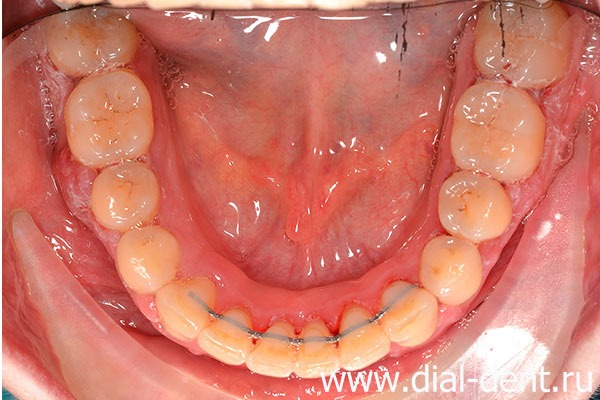LL1BC_healthy: (420, 235, 480, 304)
LL1M_healthy: (450, 82, 544, 177)
LL2BC_decay: (439, 171, 509, 242)
LL2M_decay: (476, 3, 571, 82)
LLCI_decay: (295, 326, 339, 374)
LLC_decay: (382, 283, 437, 345)
LLLI_decay: (340, 311, 388, 368)
LR1BC_healthy: (116, 225, 177, 292)
LR1M_decay: (66, 72, 153, 165)
LR2BC_decay: (92, 164, 160, 230)
LR2M_decay: (45, 15, 135, 72)
LRCI_decay: (250, 323, 293, 377)
LRC_decay: (156, 277, 211, 338)
LRLI_decay: (201, 307, 250, 365)
